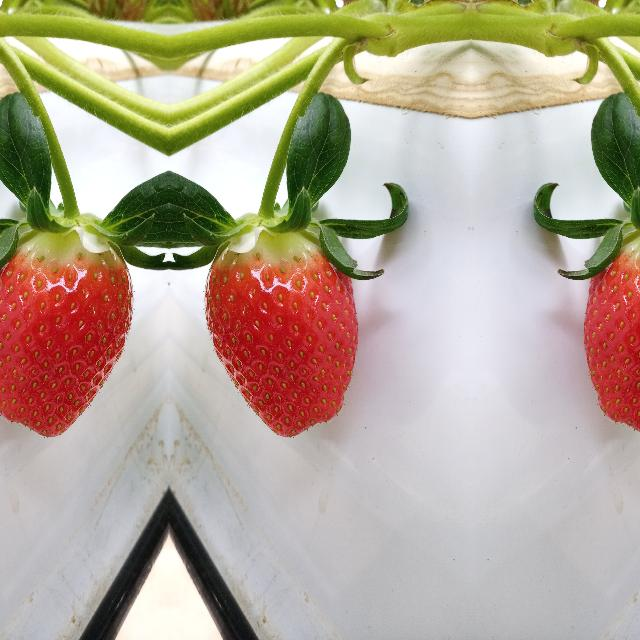Health_100: (202, 224, 358, 438), (0, 223, 134, 438), (582, 223, 640, 438)
